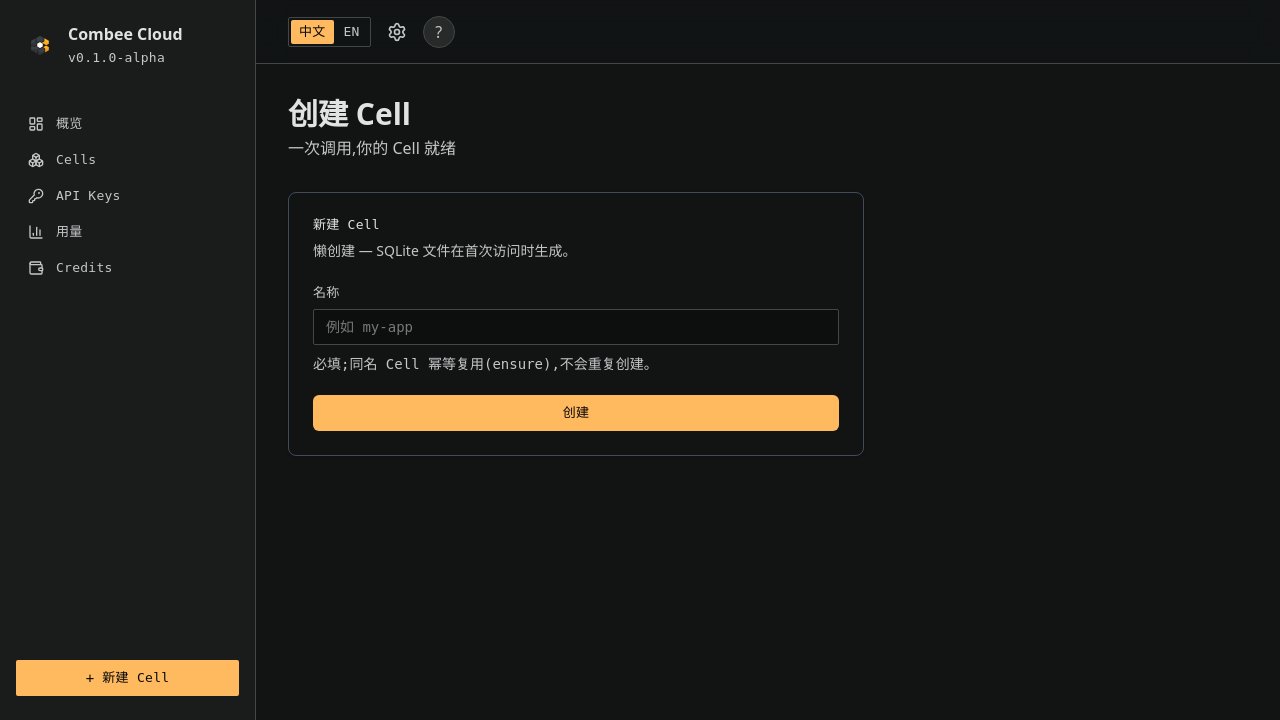
Test: CreateCellPage › requires a name (ensure semantics)
Click the button with test id "create-cell-submit" at [576, 413], box [313,395,839,431]
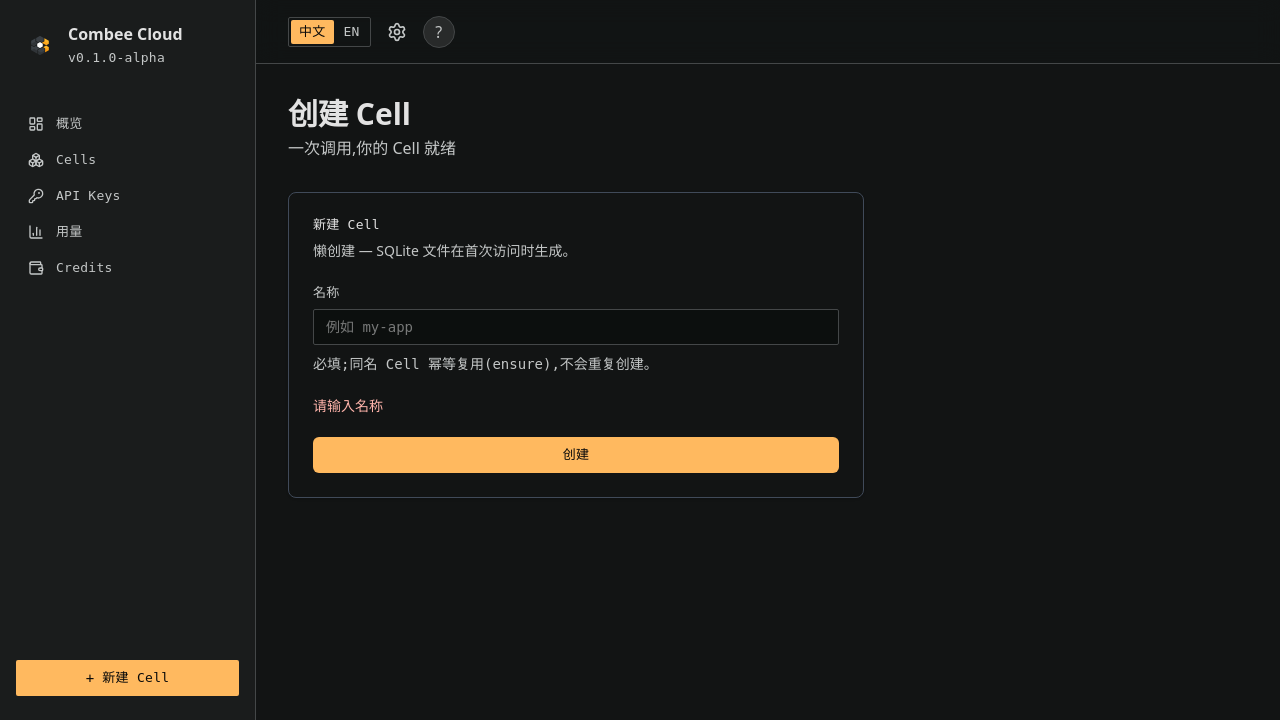
Now the text "请输入名称" is shown, box [313,398,383,414]
